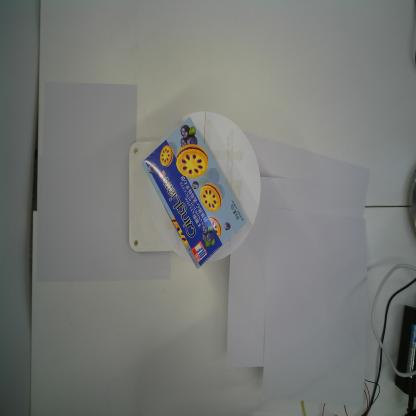Dessert: (140, 116, 246, 270)
